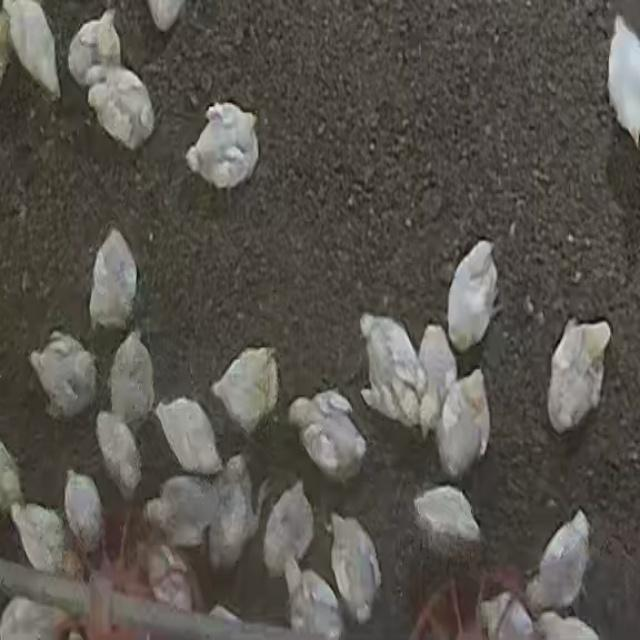chicken: (357, 308, 426, 426), (546, 318, 613, 436), (286, 390, 366, 485), (528, 509, 592, 615), (209, 347, 281, 440), (185, 100, 260, 188), (28, 329, 97, 422), (435, 366, 491, 480), (446, 238, 500, 354), (84, 64, 155, 151), (328, 508, 381, 624), (1, 2, 62, 98), (153, 396, 224, 478), (262, 478, 316, 580), (88, 227, 138, 336), (213, 457, 259, 571), (411, 321, 457, 433), (411, 484, 481, 556), (145, 475, 215, 544), (108, 330, 156, 429), (280, 556, 336, 640), (607, 15, 640, 154), (140, 541, 196, 622), (9, 502, 71, 574), (63, 469, 107, 570), (93, 415, 138, 500), (67, 9, 115, 87), (479, 586, 532, 637)
